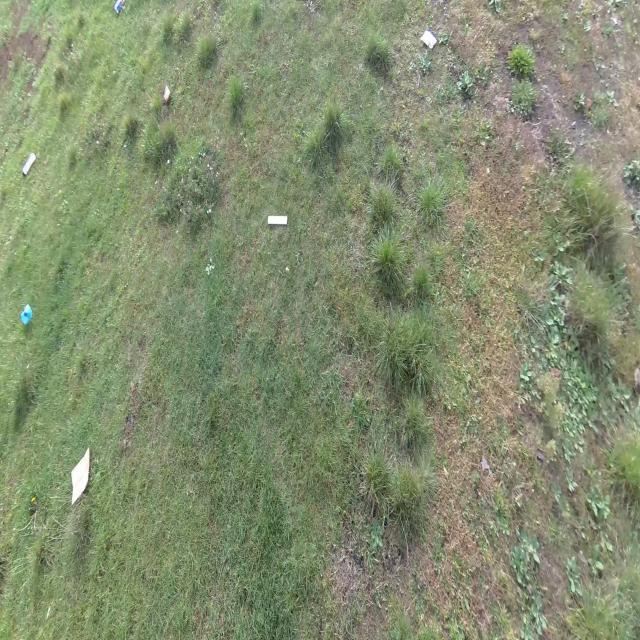rubbish: (70, 446, 90, 506), (419, 29, 438, 50), (19, 302, 33, 326), (22, 153, 37, 175), (113, 0, 126, 18), (267, 215, 287, 226), (162, 83, 172, 105)
